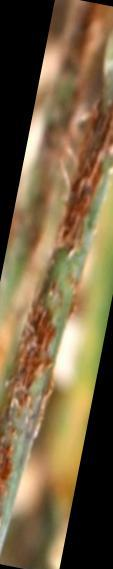Wheat: (24, 305, 54, 357), (64, 192, 89, 242), (83, 111, 112, 152), (1, 396, 35, 428), (72, 158, 104, 183), (0, 440, 16, 483), (14, 369, 44, 390)
